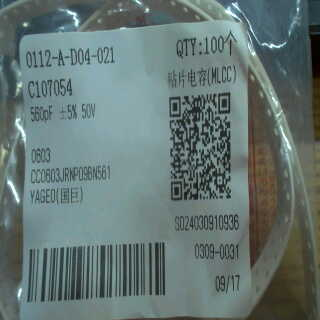560pF: (28, 104, 57, 124)
